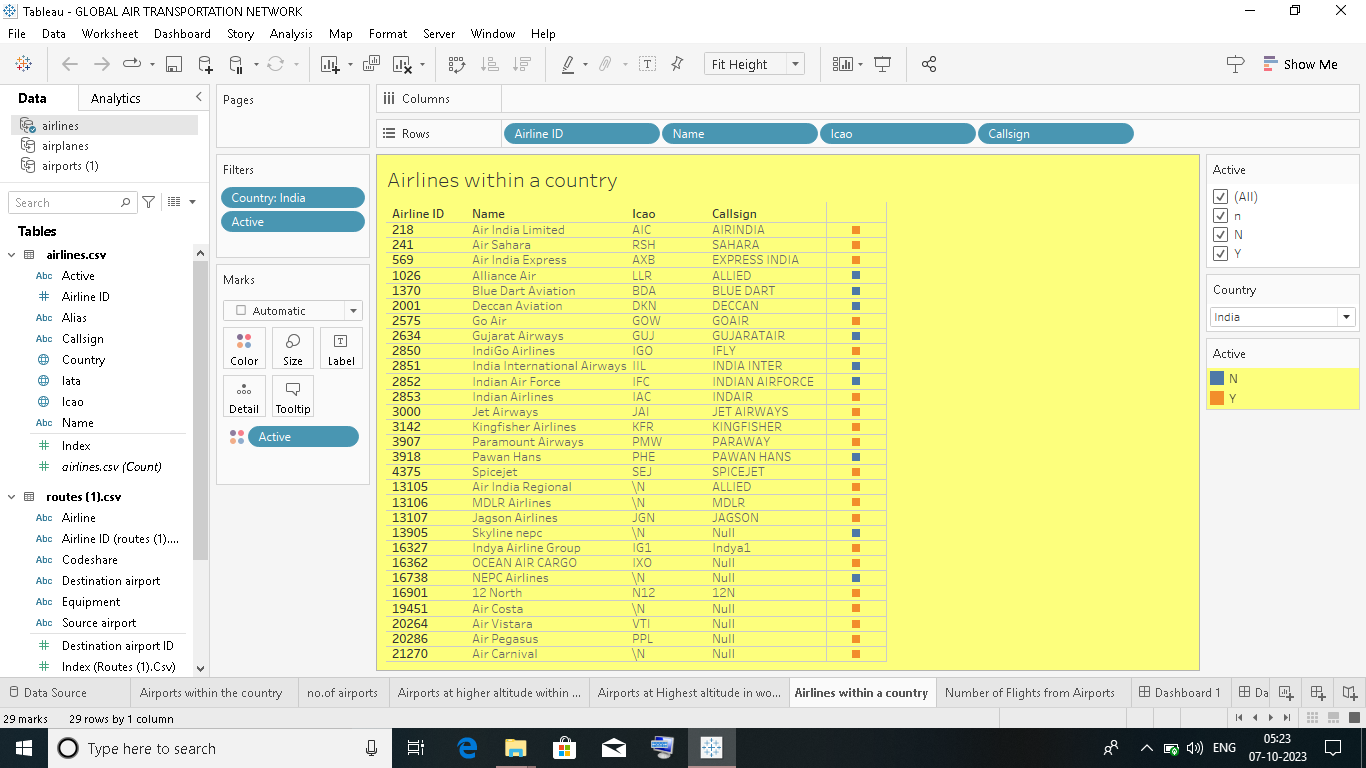

Layout of this report page (visuals, bound fields, positions):
{"tool":"tableau","page":{"name":"Dashboard 4","canvas":[1000,800],"ordinal":3},"visuals":[{"type":"worksheet","title":"Airlines within a country","mark":"Automatic","rows":["Airline ID","Name","ICAO","Callsign"],"box":[8,8,824,784]},{"type":"filter","title":"Airlines within a country","param":"[federated.10ei6qe0yz0oh80zsnboy1ecpc5a].[none:Active:nk]","box":[832,8,160,108]},{"type":"filter","title":"Airlines within a country","param":"[federated.10ei6qe0yz0oh80zsnboy1ecpc5a].[none:Country:nk]","box":[832,116,160,52]},{"type":"legend","title":"Airlines within a country","param":"[federated.10ei6qe0yz0oh80zsnboy1ecpc5a].[none:Active:nk]","box":[832,168,160,66]}]}

Visuals, with their boxes on the page's 1000x800 design canvas (x1, y1, x2, y2). These are canvas units, not pixel positions in the 1366x768 screenshot, which may show the page scaled, cropped or inside an application window:
"Airlines within a country" worksheet: locate(8, 8, 832, 792)
"Airlines within a country" filter: locate(832, 8, 992, 116)
"Airlines within a country" filter: locate(832, 116, 992, 168)
"Airlines within a country" legend: locate(832, 168, 992, 234)
